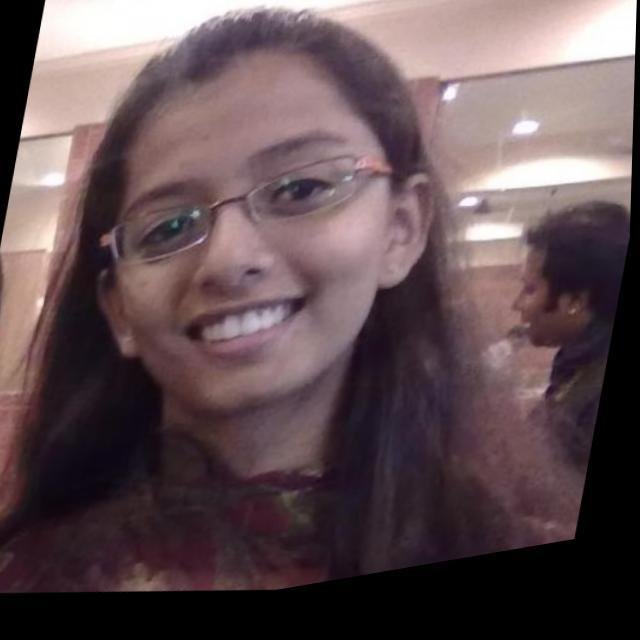Nonhelmet: (84, 0, 432, 440)
